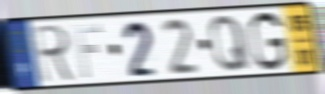2: (119, 17, 161, 82), (160, 16, 201, 77)
F: (71, 23, 104, 80)
G: (247, 10, 289, 74)
Q: (208, 13, 253, 74)
R: (31, 22, 78, 85)
